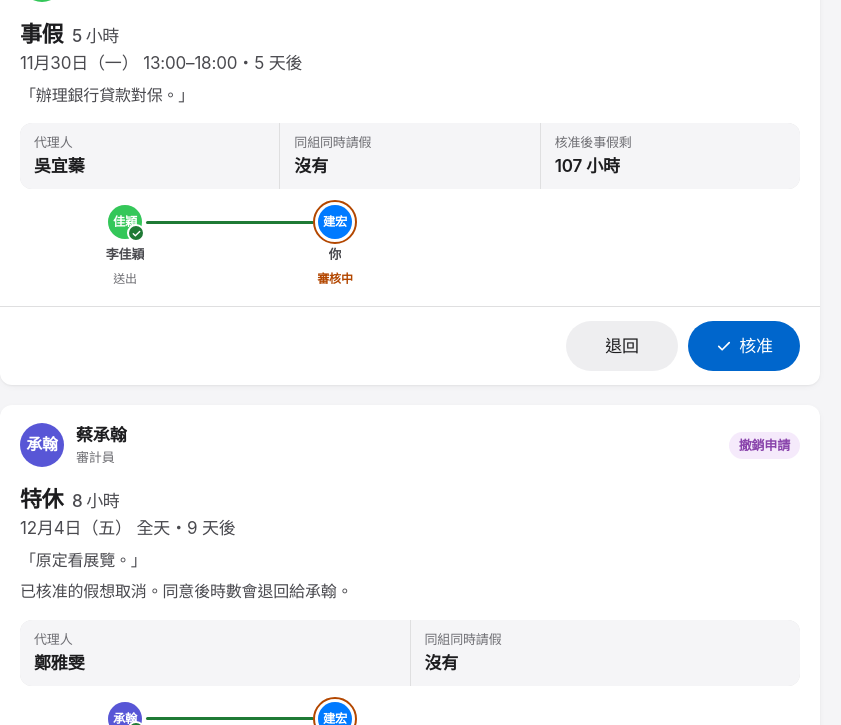
ApprovalsPage › returning needs a reason before it can be confirmed
Later steps or results of the test are not shown.
(page scrolled)
Click the button "退回": [622, 346] box top-left (566, 321), bottom-right (678, 371)
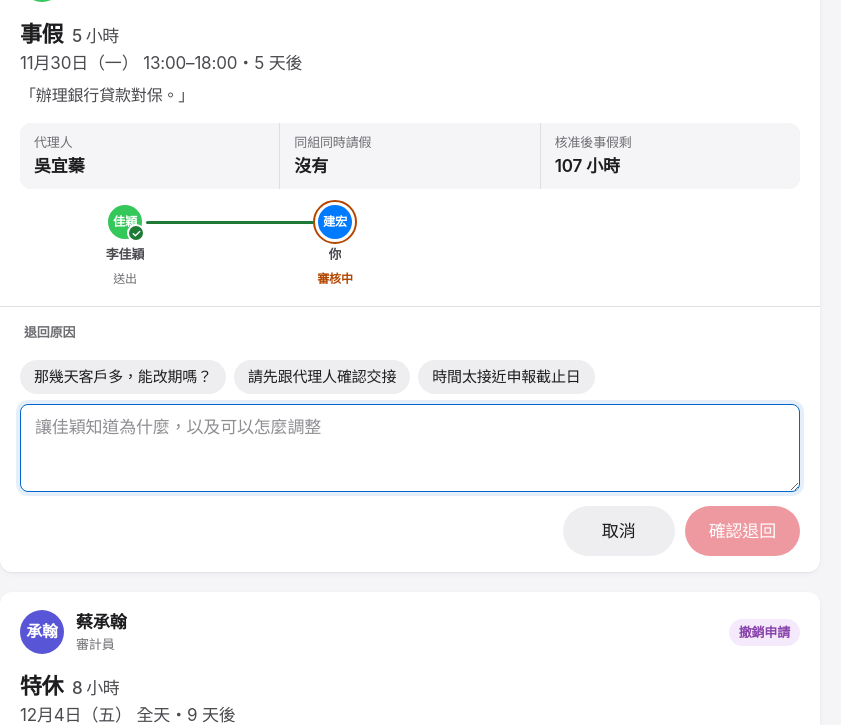
Expected: the button "確認退回" is disabled, top-left (685, 506), bottom-right (800, 556)
In the text box labelled "退回原因": [410, 448] box top-left (20, 404), bottom-right (800, 492), type "月底結帳，改下週好嗎？"
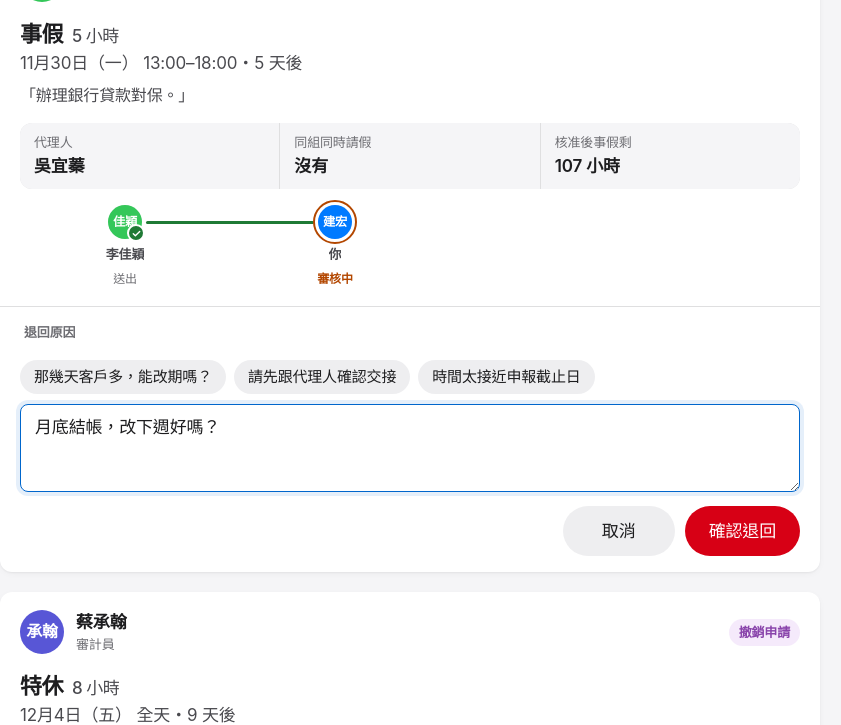
Expected: the button "確認退回" is enabled, top-left (685, 506), bottom-right (800, 556)
